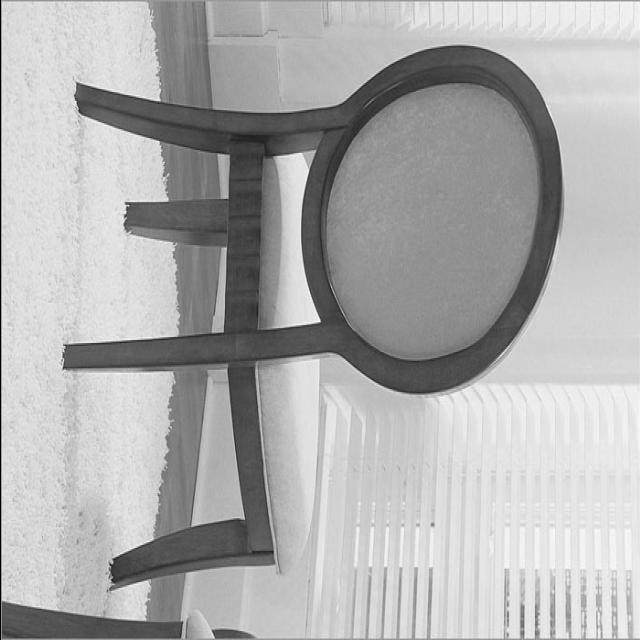chair: (61, 40, 566, 594)
